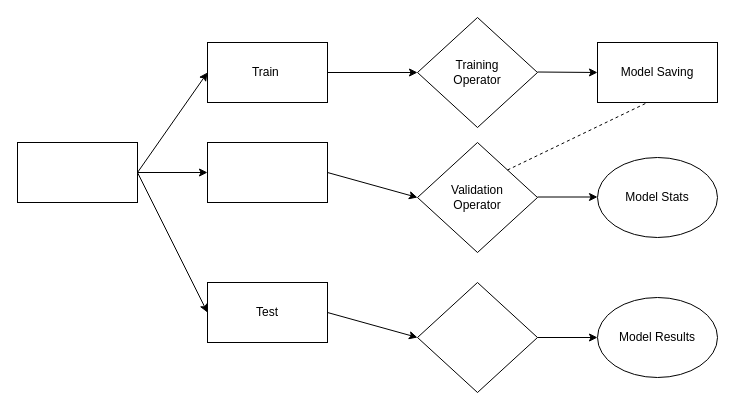
Some shapes in this 735 by 410 pixel diagram are drawn without their labels. Here are the shapes that lost their labels. From the top down, the box of each, then its label:
(16, 142, 138, 202): Split Data/Sampling Operator
(206, 142, 328, 202): Validation
(416, 282, 538, 392): Model Scoring Operator
